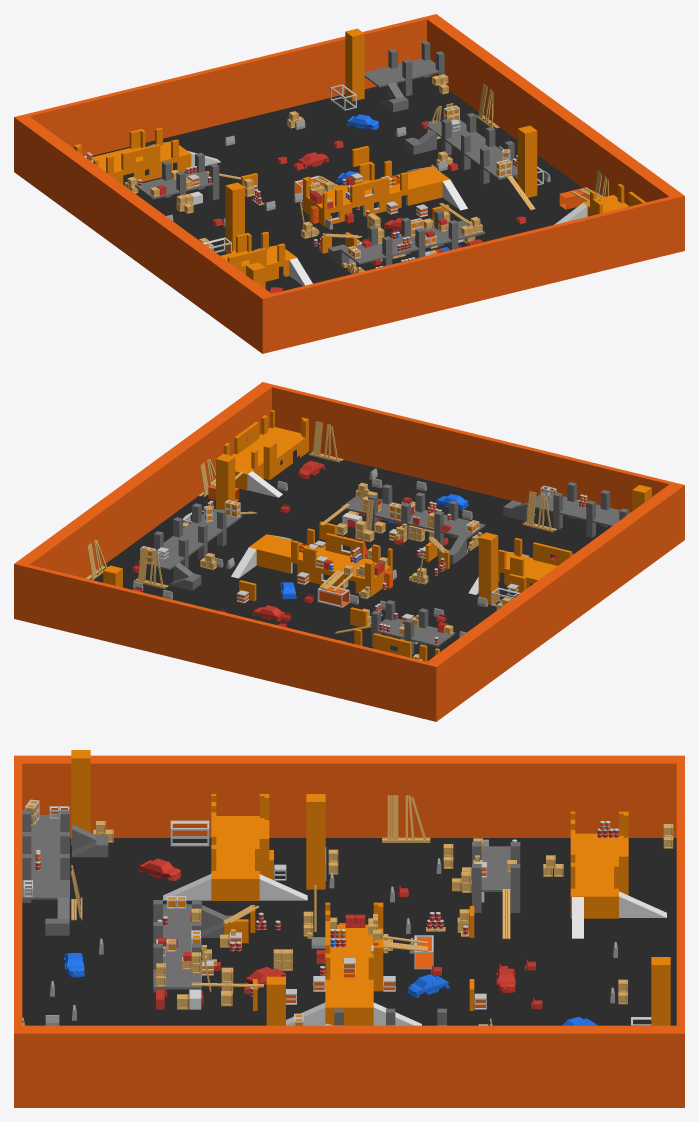
The model's file is map.fbx.
3 renders of one model, top to bottom at view 1: azimuth 30°, elevation 25°; view 2: azimuth 150°, elevation 25°; view 3: azimuth 270°, elevation 25°, orthographic. The views are drawn at different scales.
Parts seen in each view (by area): view 1: floors, Plane, room, room_0.002, Cube.004_0.002, Cube.004, Cube.016_0.001, room_0.001, Cube.016, obj.048_0.002, obj.048_0.003, obj.048_0.004 (+3 smaller); view 2: floors, Plane, room, room_0.003, Cube.004_0.002, Cube.004, Cube.004_0.001, room_0.001, Cube.016, obj.048_0.004, obj.048_0.002, room_0.002 (+2 smaller); view 3: floors, Plane, room_0.001, room, room_0.002, Cube.004_0.001, Cube.004, Cube.016, obj.048_0.004, obj.048_0.001, obj.048_0.003, obj.048_0.002 (+11 smaller).
Boxes of the visible parts, x1=… form: floors: x1=14, y1=14, x2=684, y2=353; Plane: x1=92, y1=76, x2=581, y2=291; room: x1=303, y1=160, x2=449, y2=226; room_0.002: x1=74, y1=127, x2=191, y2=184; Cube.004_0.002: x1=426, y1=113, x2=517, y2=184; Cube.004: x1=341, y1=209, x2=485, y2=266; Cube.016_0.001: x1=364, y1=41, x2=444, y2=96; room_0.001: x1=220, y1=231, x2=297, y2=281; Cube.016: x1=135, y1=152, x2=219, y2=202; obj.048_0.002: x1=517, y1=125, x2=537, y2=197; obj.048_0.003: x1=345, y1=28, x2=364, y2=101; obj.048_0.004: x1=225, y1=182, x2=244, y2=252; floors: x1=14, y1=382, x2=684, y2=721; Plane: x1=90, y1=450, x2=610, y2=661; room: x1=249, y1=528, x2=392, y2=596; room_0.003: x1=223, y1=410, x2=308, y2=490; Cube.004_0.002: x1=138, y1=503, x2=242, y2=570; Cube.004: x1=341, y1=484, x2=485, y2=545; Cube.004_0.001: x1=526, y1=482, x2=630, y2=537; room_0.001: x1=498, y1=538, x2=571, y2=588; Cube.016: x1=371, y1=600, x2=455, y2=654; obj.048_0.004: x1=478, y1=532, x2=498, y2=605; obj.048_0.002: x1=216, y1=454, x2=235, y2=509; room_0.002: x1=340, y1=628, x2=439, y2=661; floors: x1=14, y1=755, x2=684, y2=1107; Plane: x1=22, y1=838, x2=676, y2=1025; room_0.001: x1=211, y1=794, x2=269, y2=900; room: x1=325, y1=902, x2=383, y2=1025; room_0.002: x1=570, y1=811, x2=628, y2=918; Cube.004_0.001: x1=22, y1=810, x2=69, y2=902; Cube.004: x1=153, y1=900, x2=201, y2=992; Cube.016: x1=472, y1=842, x2=520, y2=912; obj.048_0.004: x1=306, y1=794, x2=325, y2=889; obj.048_0.001: x1=71, y1=750, x2=90, y2=845; obj.048_0.003: x1=651, y1=957, x2=670, y2=1025; obj.048_0.002: x1=266, y1=976, x2=285, y2=1025.
Size of the model in its own units: 2726 by 405 by 2779.
